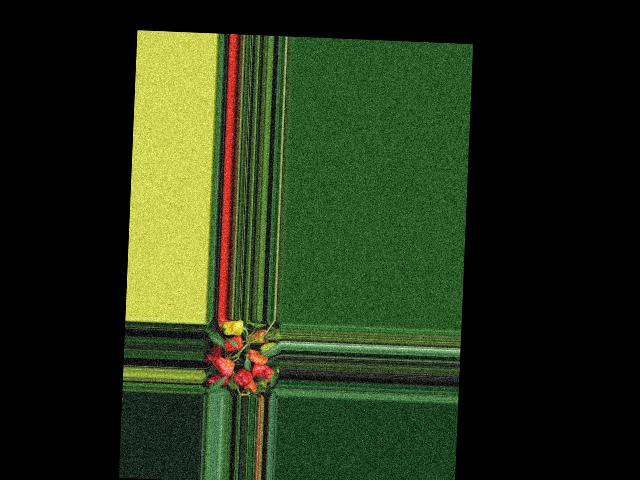bell_pepper: (246, 380, 257, 394)
